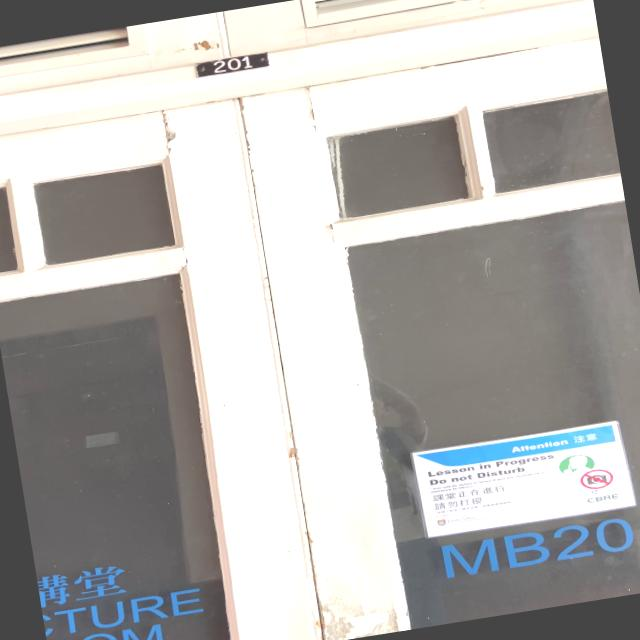room201: (190, 48, 274, 80)
room201Window: (424, 504, 640, 586)
